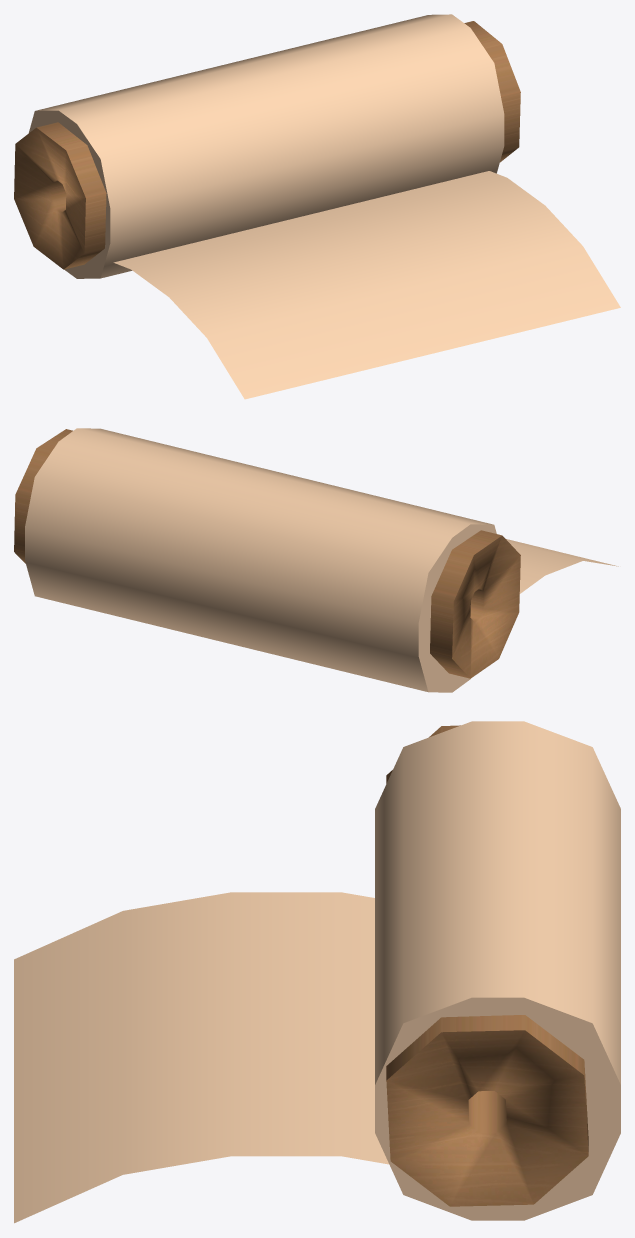
The model's file is ClothInHand.fbx.
The picture shows the model from 3 angles, top to bottom: view 1: azimuth 30°, elevation 25°; view 2: azimuth 150°, elevation 25°; view 3: azimuth 270°, elevation 25°; orthographic projection. The views are drawn at different scales.
Visible parts, largest first — view 1: Cloth, Cloth (1); view 2: Cloth, Cloth (1); view 3: Cloth, Cloth (1).
Part boxes in pixels (x1=…): Cloth: x1=29, y1=14, x2=620, y2=399; Cloth (1): x1=14, y1=21, x2=520, y2=269; Cloth: x1=25, y1=428, x2=618, y2=692; Cloth (1): x1=14, y1=429, x2=520, y2=678; Cloth: x1=14, y1=721, x2=620, y2=1223; Cloth (1): x1=386, y1=725, x2=588, y2=1206.
Size of the model in its own units: 0.8 by 0.2811 by 0.667.
